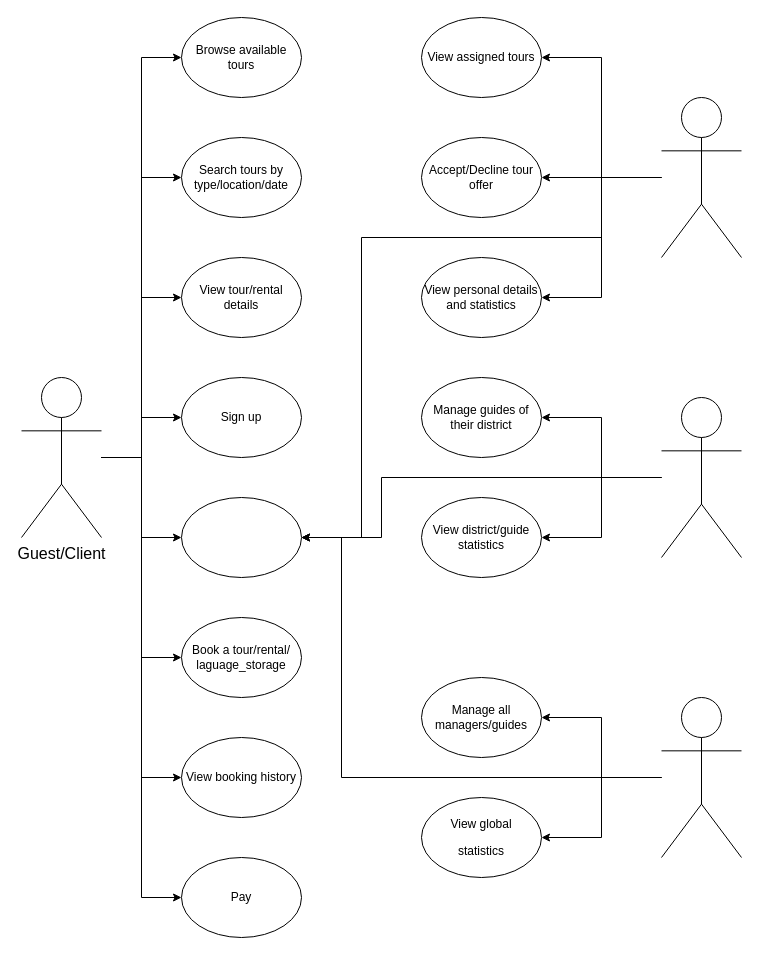
The diagram is 759 pixels wide and 955 high, and some of its shapes have lost their labels. Each missing label, with the centre of its shape:
Guide: the point at 701,177
Log in/Log out: the point at 241,537
Manager: the point at 701,477
Owner: the point at 701,777
